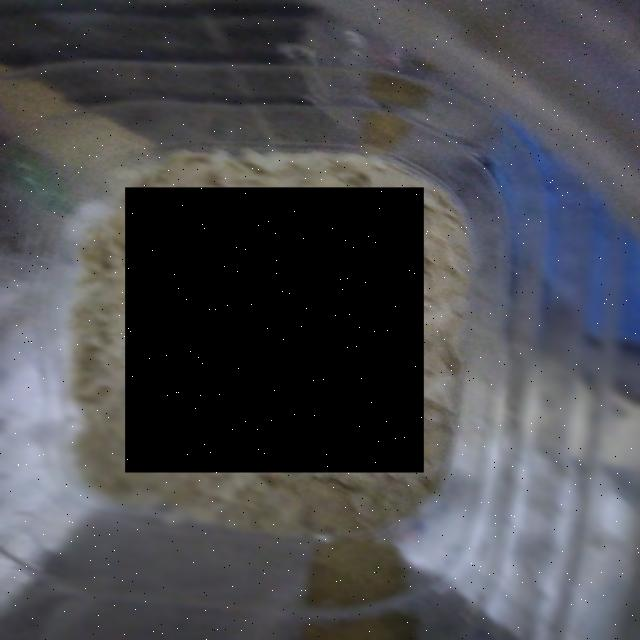Beaten_Rice: (125, 188, 424, 472)
